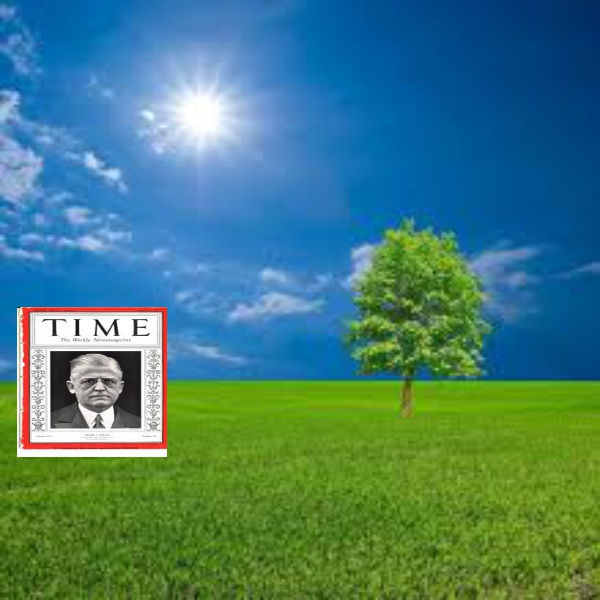time_cover: (13, 298, 171, 453)
